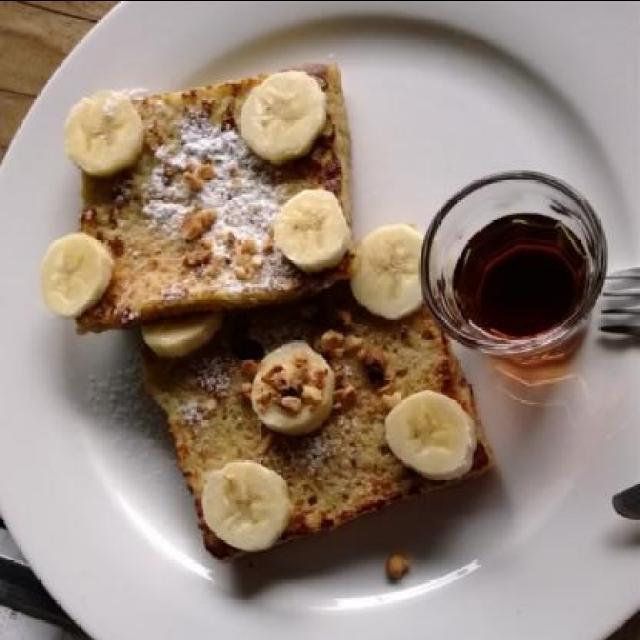Banana: (382, 384, 478, 478), (250, 337, 338, 437), (200, 459, 298, 548), (346, 222, 428, 324), (240, 70, 328, 164), (66, 88, 146, 174), (273, 189, 350, 271), (43, 231, 111, 315), (139, 310, 223, 356)
